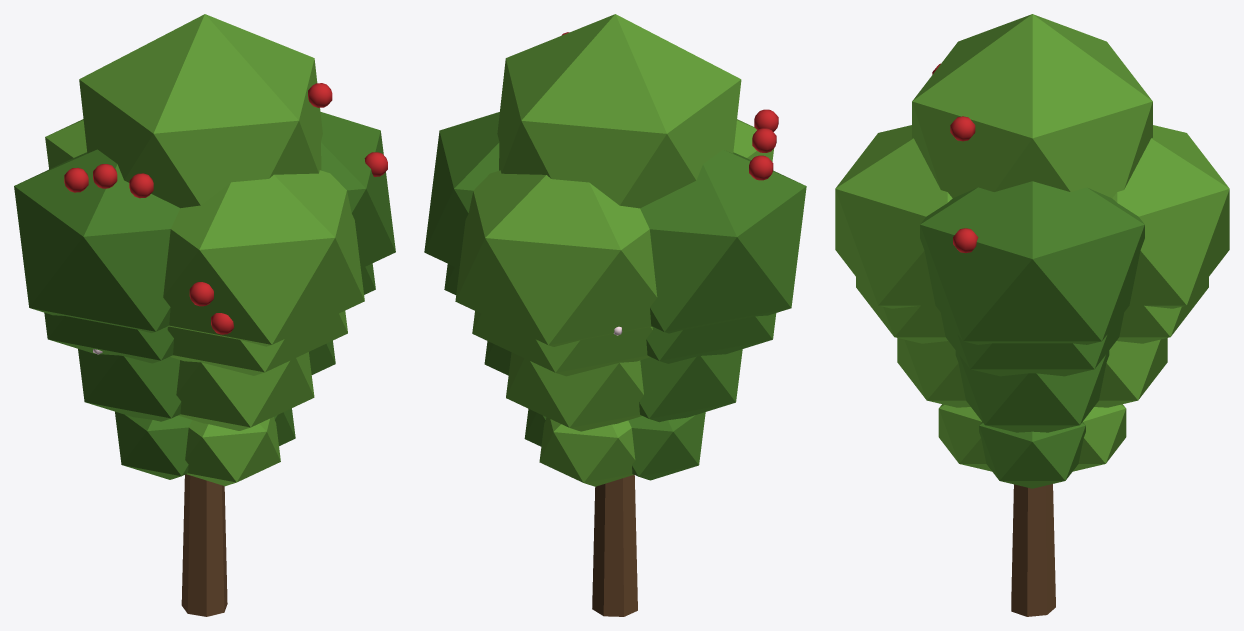
Rendered from Crop_Fruit_Apple.fbx.
3 renders of one model, left to right at view 1: azimuth 30°, elevation 25°; view 2: azimuth 150°, elevation 25°; view 3: azimuth 270°, elevation 25°, orthographic.
Parts seen in each view (by area): view 1: Crop_Fruit_Apple__S4, Crop_Fruit_Apple__S2, Crop_Fruit_Apple__S1, Crop_Fruit_Apple__S3; view 2: Crop_Fruit_Apple__S4, Crop_Fruit_Apple__S2, Crop_Fruit_Apple__S1, Crop_Fruit_Apple__S3; view 3: Crop_Fruit_Apple__S4, Crop_Fruit_Apple__S2, Crop_Fruit_Apple__S1, Crop_Fruit_Apple__S3.
Part boxes in pixels (left/top/right/bottom): Crop_Fruit_Apple__S4: left=14, top=14, right=395, bottom=616; Crop_Fruit_Apple__S2: left=78, top=340, right=335, bottom=430; Crop_Fruit_Apple__S1: left=115, top=408, right=295, bottom=486; Crop_Fruit_Apple__S3: left=44, top=263, right=375, bottom=375; Crop_Fruit_Apple__S4: left=424, top=14, right=806, bottom=616; Crop_Fruit_Apple__S2: left=484, top=341, right=742, bottom=431; Crop_Fruit_Apple__S1: left=524, top=409, right=705, bottom=486; Crop_Fruit_Apple__S3: left=444, top=264, right=776, bottom=376; Crop_Fruit_Apple__S4: left=835, top=14, right=1229, bottom=616; Crop_Fruit_Apple__S2: left=897, top=338, right=1167, bottom=432; Crop_Fruit_Apple__S1: left=938, top=404, right=1126, bottom=488; Crop_Fruit_Apple__S3: left=856, top=277, right=1208, bottom=376.
Bounding box in the file's own units: 0.551 × 0.888 × 0.5353.
